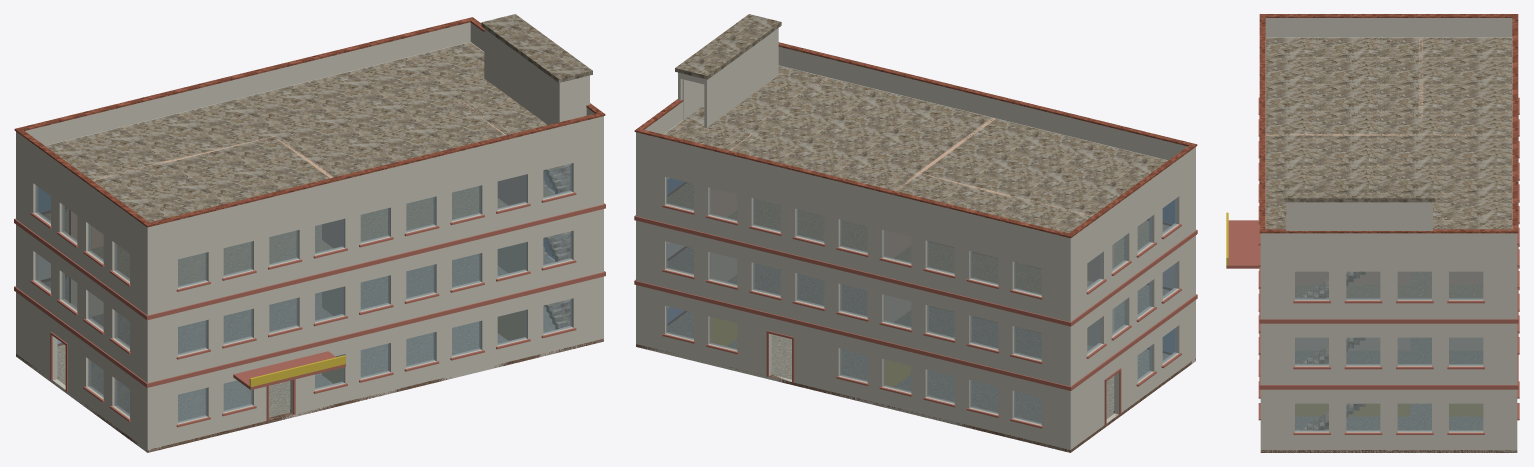
File: ew-control-house.works-v1.lod0.glb
The picture shows the model from 3 angles, left to right: view 1: azimuth 30°, elevation 25°; view 2: azimuth 150°, elevation 25°; view 3: azimuth 270°, elevation 25°; orthographic projection. The views are drawn at different scales.
Parts seen in each view (by area): view 1: ew-control-house; view 2: ew-control-house; view 3: ew-control-house.
Part boxes in pixels (x1,y1,x2,y2): ew-control-house: [14, 14, 605, 452]; ew-control-house: [634, 14, 1197, 452]; ew-control-house: [1226, 14, 1519, 452].
Bounding box in the file's own units: 24.2 × 13.15 × 13.7.
Materials: 4 (2 with a texture image).
